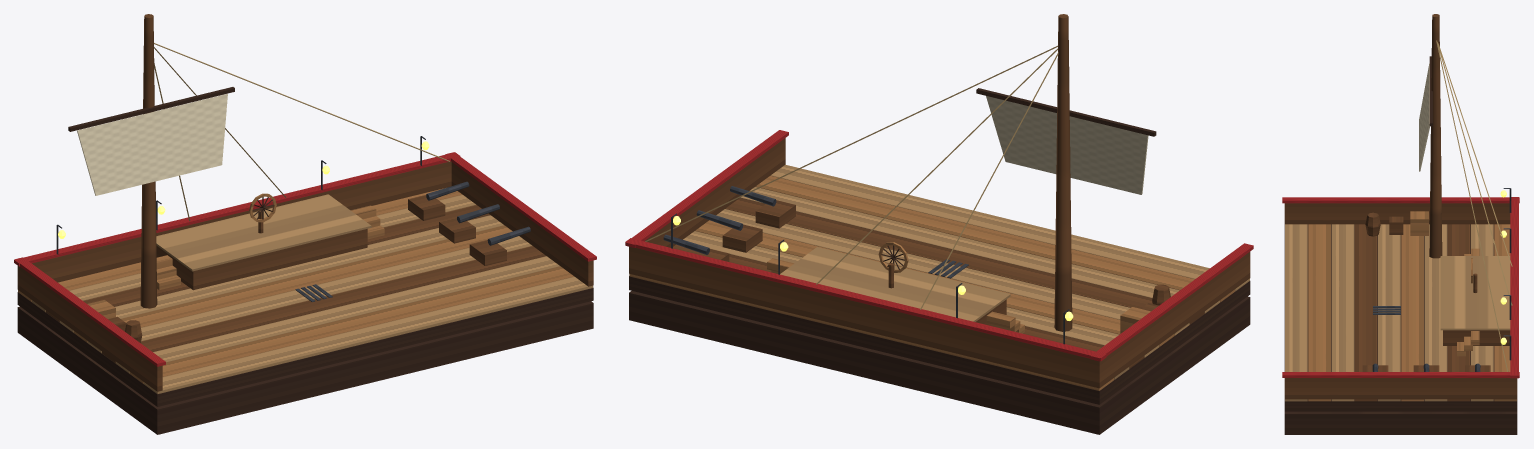
Rendered from SM_Env_QuarterdeckHub_HQ.glb.
3 views of the same model, side by side, from view 1: azimuth 30°, elevation 25°; view 2: azimuth 150°, elevation 25°; view 3: azimuth 270°, elevation 25° (orthographic). The views are drawn at different scales.
Visible parts, largest first — view 1: SM_Env_QuarterdeckHub_HQ; view 2: SM_Env_QuarterdeckHub_HQ; view 3: SM_Env_QuarterdeckHub_HQ.
Boxes of the visible parts, <box> form: SM_Env_QuarterdeckHub_HQ: <box>14,14,596,434</box>; SM_Env_QuarterdeckHub_HQ: <box>625,14,1253,434</box>; SM_Env_QuarterdeckHub_HQ: <box>1282,14,1519,434</box>.
Size of the model in its own units: 18.2 by 13.1 by 10.2.
Materials: 1 (1 with a texture image).
